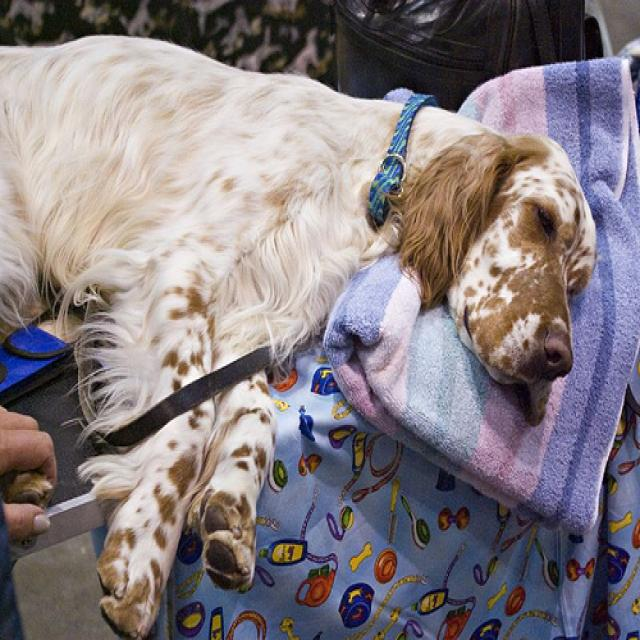dog-english_setter: (1, 21, 608, 637)
